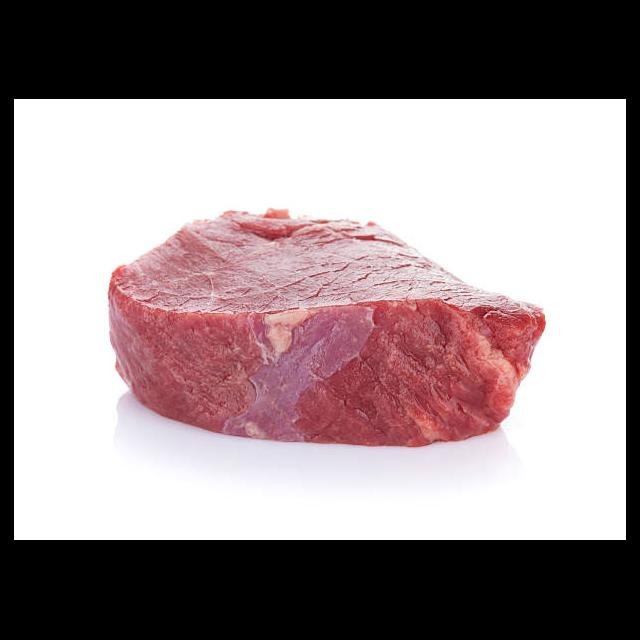beef: (106, 205, 546, 450)
